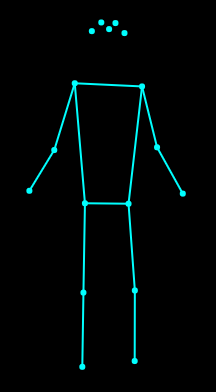mountain: (22, 13, 190, 372)
